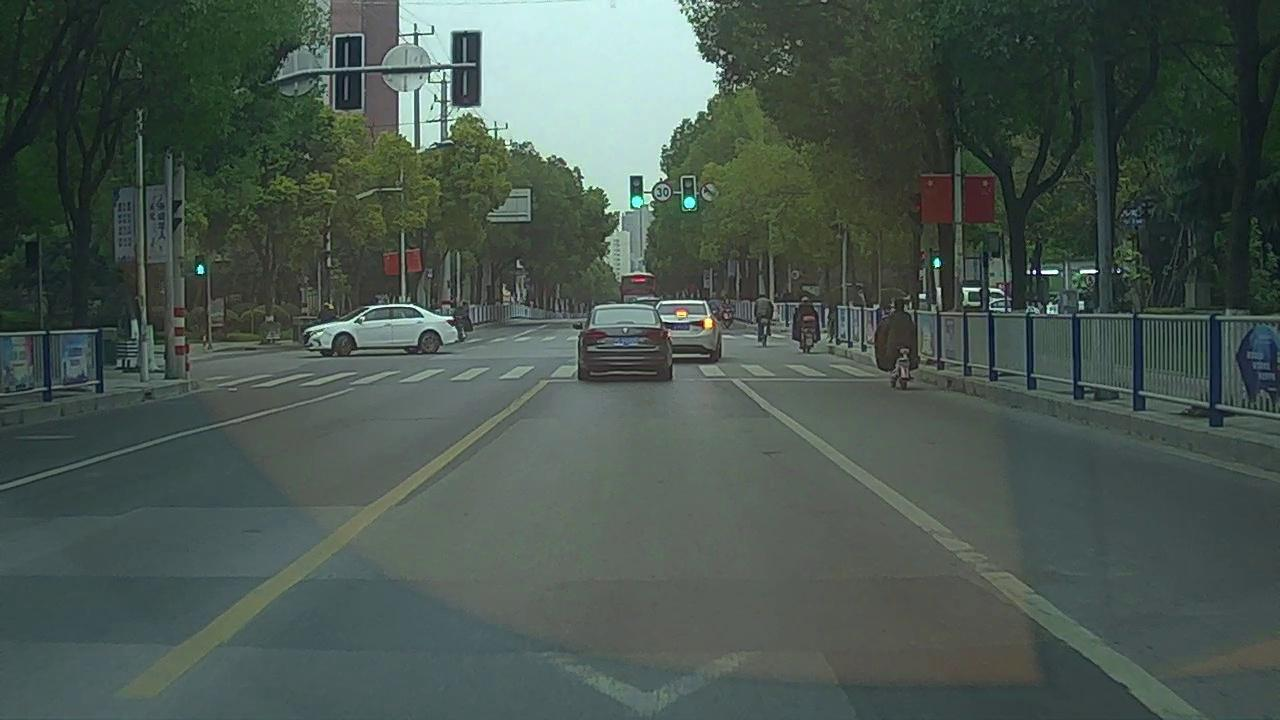traffic_light: (682, 177, 696, 210), (631, 177, 642, 208)
